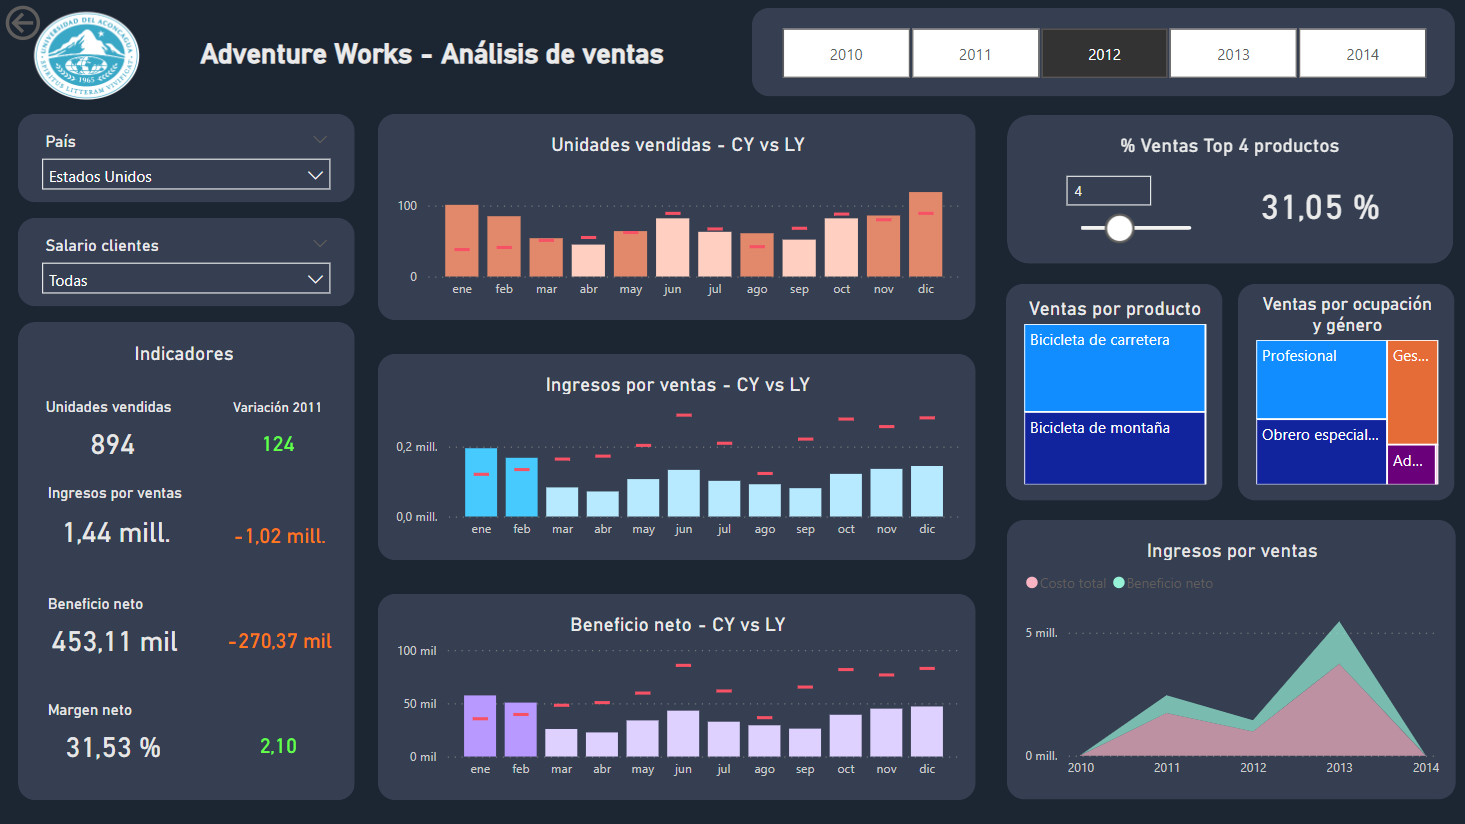

Layout of this report page (visuals, bound fields, positions):
{"tool":"powerbi","page":{"name":"Análisis de ventas 1","canvas":[1280,720],"ordinal":0},"visuals":[{"type":"slicer","title":"Año","fields":{"Values":["dim_fecha.Year"]},"box":[656.9,7.1,614.2,76.6],"z":0},{"type":"shape","box":[16,281.3,294.4,417.8],"z":0,"group":"g2"},{"type":"lineClusteredColumnComboChart","title":"Unidades vendidas - CY vs LY","fields":{"Y":["Medidas.02 Q Venta total"],"Y2":["Medidas.11 Q Venta anio anterior ALL continente subcategoria"],"Category":["dim_fecha.Mes"]},"box":[330,100,522.2,180],"z":1000},{"type":"card","title":"Ingresos por ventas","fields":{"Values":["Medidas.01 $ Venta total"]},"box":[37.1,423.2,128.9,67.8],"z":1000,"group":"g2"},{"type":"lineClusteredColumnComboChart","title":"Beneficio neto - CY vs LY","fields":{"Y":["Medidas.06 $ Beneficio neto"],"Y2":["Medidas.13 $ Beneficio neto anio anterior ALL continente subcategoria"],"Category":["dim_fecha.Mes"]},"box":[330,518.9,522.2,180],"z":2000},{"type":"slicer","title":"País","fields":{"Values":["dim_territorio.desc_pais"]},"box":[16,99.7,293.7,76.6],"z":3000},{"type":"lineClusteredColumnComboChart","title":"Ingresos por ventas - CY vs LY","fields":{"Category":["dim_fecha.Mes"],"Y":["Medidas.01 $ Venta total"],"Y2":["Medidas.09 $ Venta año anterior ALL continente subcategoria"]},"box":[330,309.4,522.2,180],"z":4000},{"type":"actionButton","box":[0,0,100,40],"z":5000},{"type":"treemap","title":"Ventas por producto","fields":{"Values":["Medidas.01 $ Venta total"],"Group":["dim_producto.desc_categoria","dim_producto.desc_subcategoria","dim_producto.desc_producto"]},"box":[879.4,248.1,188.8,189.4],"z":6000},{"type":"card","title":"Unidades vendidas","fields":{"Values":["Medidas.02 Q Venta total"]},"box":[35.2,347.8,126.7,63.3],"z":7000,"group":"g2"},{"type":"stackedAreaChart","title":"Ingresos por ventas","fields":{"Category":["dim_fecha.Year"],"Y":["Medidas.26 $ Costo total PFI","Medidas.06 $ Beneficio neto"]},"box":[879.4,454,391.7,243.9],"z":7000},{"type":"group","id":"g1","title":"Grupo 1","box":[879.8,100.5,389.9,130],"z":8000},{"type":"card","title":"Beneficio neto","fields":{"Values":["Medidas.06 $ Beneficio neto"]},"box":[36.6,519.8,126.7,63.3],"z":8000,"group":"g2"},{"type":"image","box":[0,0,151.2,97.7],"z":9000},{"type":"card","title":"Margen neto","fields":{"Values":["Medidas.07 % Beneficio neto"]},"box":[37.1,612.3,124.4,63.3],"z":9000,"group":"g2"},{"type":"textbox","box":[164.4,27.8,426.7,36.7],"z":10000},{"type":"group","id":"g2","title":"Grupo 2","box":[16,281.3,294.4,417.8],"z":11000},{"type":"card","title":"Ventas [USD]","fields":{"Values":["Medidas.18 $ Delta venta total LY"]},"box":[189.1,450.7,110,35.6],"z":11000,"group":"g2"},{"type":"slicer","title":"País","fields":{"Values":["dim_cliente.salario_mensual"]},"box":[16,190.5,293.7,76.6],"z":12000},{"type":"card","title":"Ventas [USD]","fields":{"Values":["Medidas.19 Q Delta venta total LY"]},"box":[188,370.1,110,35.6],"z":12000,"group":"g2"},{"type":"treemap","title":"Ventas por ocupación y género","fields":{"Values":["Medidas.01 $ Venta total"],"Group":["dim_cliente.ocupacion","dim_cliente.genero"]},"box":[1081.2,248.1,188.8,189.4],"z":13000},{"type":"card","title":"Ventas [USD]","fields":{"Values":["Medidas.21 % Delta beneficio neto LY"]},"box":[191.8,634.6,103.3,35.6],"z":13000,"group":"g2"},{"type":"card","title":"Ventas [USD]","fields":{"Values":["Medidas.20 $ Delta beneficio neto LY"]},"box":[192.5,542.1,103.3,35.6],"z":14000,"group":"g2"},{"type":"shape","box":[879.8,100.5,389.9,130],"z":16500,"group":"g1"},{"type":"slicer","title":"Top N productos","fields":{"Values":["Parámetro.Parámetro"]},"box":[907.5,134.7,165.3,95.1],"z":17000,"group":"g1"},{"type":"card","fields":{"Values":["Medidas.25 % Porcentaje ventas topN productos"]},"box":[1083,147.6,138.5,60],"z":18000,"group":"g1"},{"type":"card","fields":{"Values":["Medidas.título delta indicadores"]},"box":[183,343.3,120,27.8],"z":20000,"group":"g2"},{"type":"card","fields":{"Values":["Medidas.Título KPI %TopN"]},"box":[927.6,108.1,293.3,38.9],"z":21000,"group":"g1"},{"type":"textbox","box":[38.8,293.5,245,36.7],"z":21000,"group":"g2"}]}

Visuals, with their boxes in screenshot pixels (x1, y1, x2, y2), scaled from the page's 1280x720 canvas onto the 1465x824 screenshot:
"Año" slicer: BBox(752, 8, 1455, 96)
shape: BBox(18, 322, 355, 800)
"Unidades vendidas - CY vs LY" lineClusteredColumnComboChart: BBox(378, 114, 975, 320)
"Ingresos por ventas" card: BBox(42, 484, 190, 562)
"Beneficio neto - CY vs LY" lineClusteredColumnComboChart: BBox(378, 594, 975, 800)
"País" slicer: BBox(18, 114, 354, 202)
"Ingresos por ventas - CY vs LY" lineClusteredColumnComboChart: BBox(378, 354, 975, 560)
actionButton: BBox(0, 0, 114, 46)
"Ventas por producto" treemap: BBox(1007, 284, 1223, 501)
"Unidades vendidas" card: BBox(40, 398, 185, 470)
"Ingresos por ventas" stackedAreaChart: BBox(1007, 520, 1455, 799)
"Grupo 1" group: BBox(1007, 115, 1453, 264)
"Beneficio neto" card: BBox(42, 595, 187, 667)
image: BBox(0, 0, 173, 112)
"Margen neto" card: BBox(42, 701, 185, 773)
textbox: BBox(188, 32, 677, 74)
"Grupo 2" group: BBox(18, 322, 355, 800)
"Ventas [USD]" card: BBox(216, 516, 342, 557)
"País" slicer: BBox(18, 218, 354, 306)
"Ventas [USD]" card: BBox(215, 424, 341, 464)
"Ventas por ocupación y género" treemap: BBox(1237, 284, 1454, 501)
"Ventas [USD]" card: BBox(220, 726, 338, 767)
"Ventas [USD]" card: BBox(220, 620, 339, 661)
shape: BBox(1007, 115, 1453, 264)
"Top N productos" slicer: BBox(1039, 154, 1228, 263)
card - Medidas.25 % Porcentaje ventas topN productos: BBox(1240, 169, 1398, 238)
card - Medidas.título delta indicadores: BBox(209, 393, 347, 425)
card - Medidas.Título KPI %TopN: BBox(1062, 124, 1397, 168)
textbox: BBox(44, 336, 325, 378)
